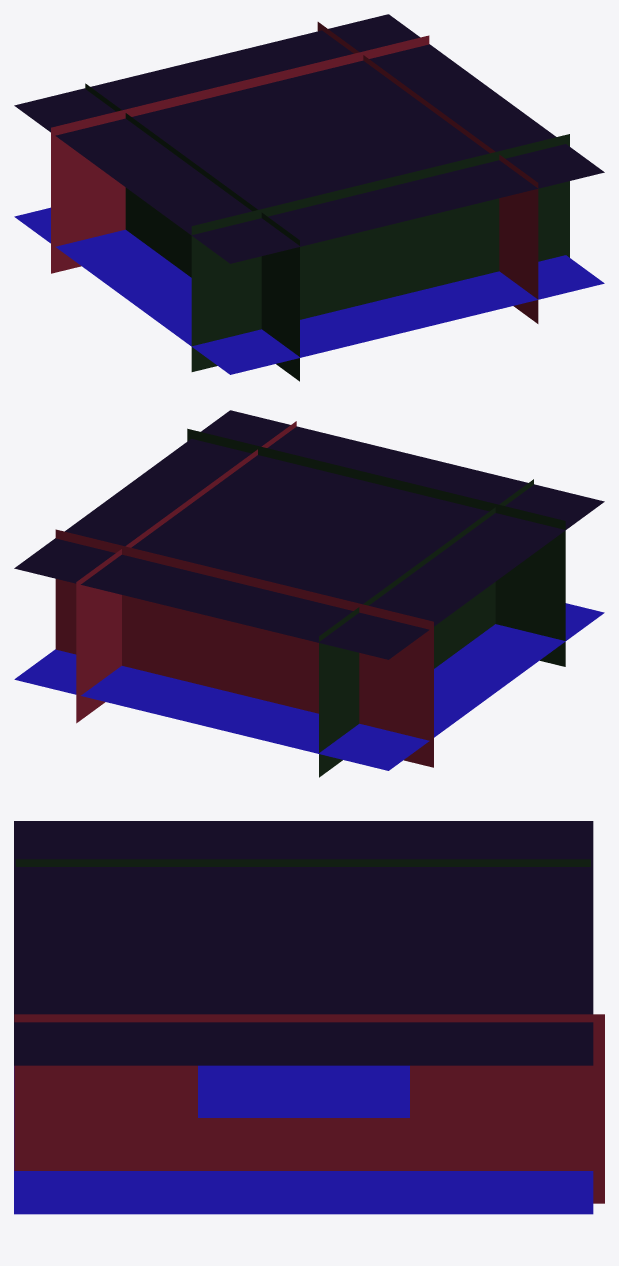
The model's file is ściany,sófit+podłoga.fbx.
3 renders of one model, top to bottom at view 1: azimuth 30°, elevation 25°; view 2: azimuth 150°, elevation 25°; view 3: azimuth 270°, elevation 25°, orthographic. The views are drawn at different scales.
Visible parts, largest first — view 1: sófit, sciana, podłoga, sciana004, sciana002, sciana003; view 2: sófit, sciana004, podłoga, sciana, sciana002, sciana003; view 3: sófit, sciana003, podłoga, sciana002.
Boxes of the visible parts, x1,y1,x2,y2 form: sófit: [14, 14, 604, 263]; sciana: [191, 134, 569, 371]; podłoga: [14, 207, 604, 374]; sciana004: [51, 35, 429, 273]; sciana002: [85, 83, 299, 381]; sciana003: [317, 22, 538, 323]; sófit: [14, 410, 604, 659]; sciana004: [55, 529, 433, 767]; podłoga: [14, 603, 604, 770]; sciana: [187, 428, 565, 666]; sciana002: [319, 479, 533, 777]; sciana003: [76, 421, 296, 723]; sófit: [14, 821, 593, 1065]; sciana003: [14, 1014, 604, 1203]; podłoga: [14, 1065, 593, 1214]; sciana002: [15, 859, 590, 866].
Size of the model in its own units: 483 by 176 by 482.
